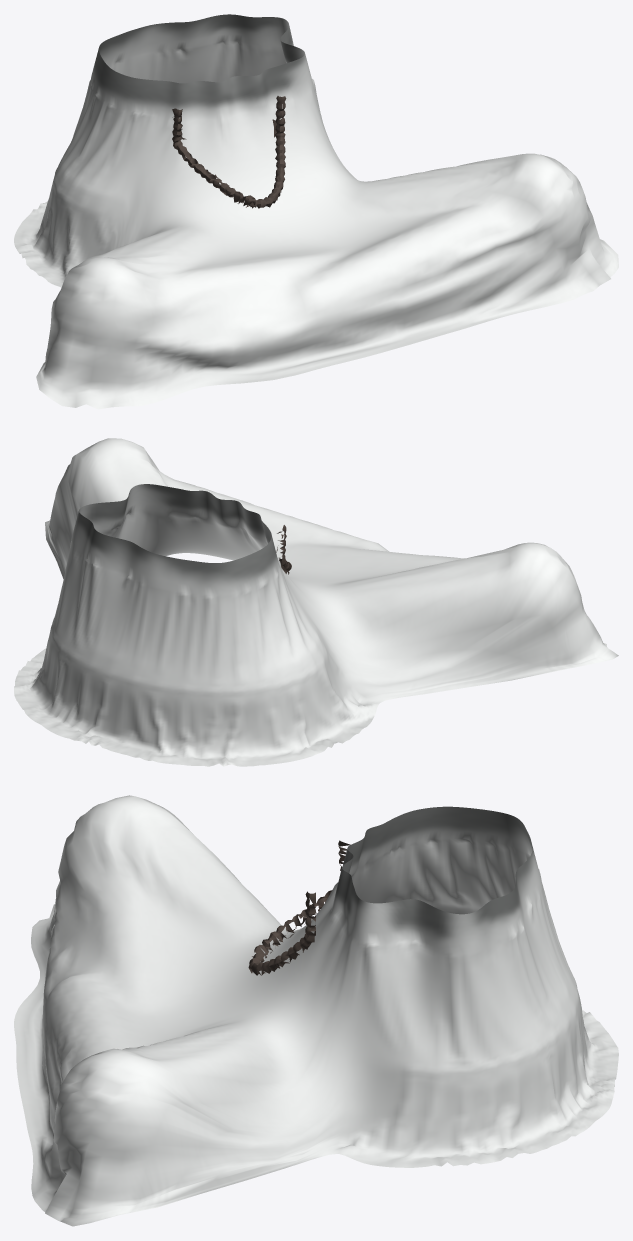
The model's file is w3pholap.glb.
The picture shows the model from 3 angles, top to bottom: view 1: azimuth 30°, elevation 25°; view 2: azimuth 150°, elevation 25°; view 3: azimuth 270°, elevation 25°; orthographic projection. The views are drawn at different scales.
Parts seen in each view (by area): view 1: lap, beads; view 2: lap; view 3: lap, beads.
Boxes of the visible parts, x1,y1,x2,y2 form: lap: [14, 14, 618, 409]; beads: [172, 96, 286, 208]; lap: [14, 438, 618, 766]; lap: [14, 795, 618, 1226]; beads: [248, 840, 350, 975].
Bounding box in the file's own units: 1.03 × 0.305 × 0.7725.
Materials: 2 (1 with a texture image).
